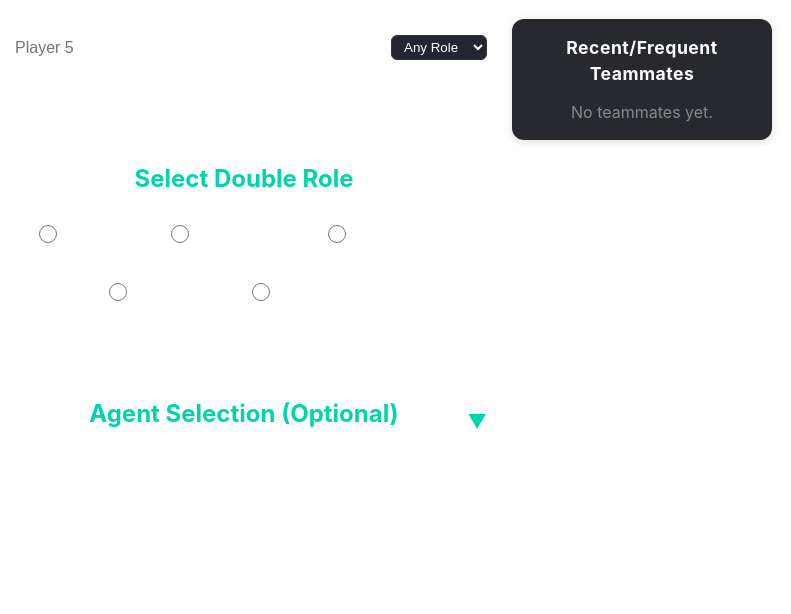
Test: App.vue Integration Tests › Agent Selection Modes › should show agent mode options when agent selection is expanded
(page scrolled)
What coordinates should you click on to do the following:
click the element with class "section-header"
I would click on:
 (288, 416)
Its box is [89,399,487,433].
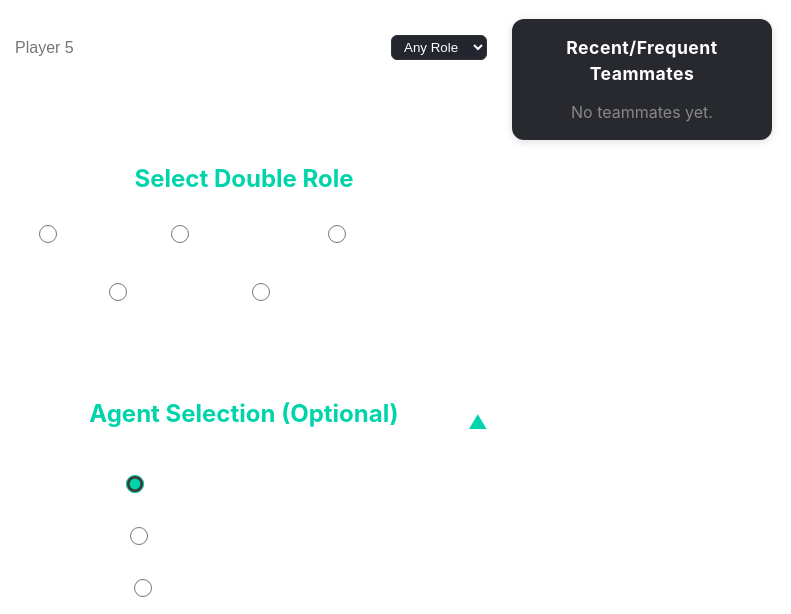
Check: the element with class "agent-mode-selection" is shown, box [126,474,346,598]
Check: the radio button labelled "No Agents (Roles Only)" is shown, box [126,475,144,493]
Check: the radio button labelled "Random Agents for All" is shown, box [130,527,148,545]
